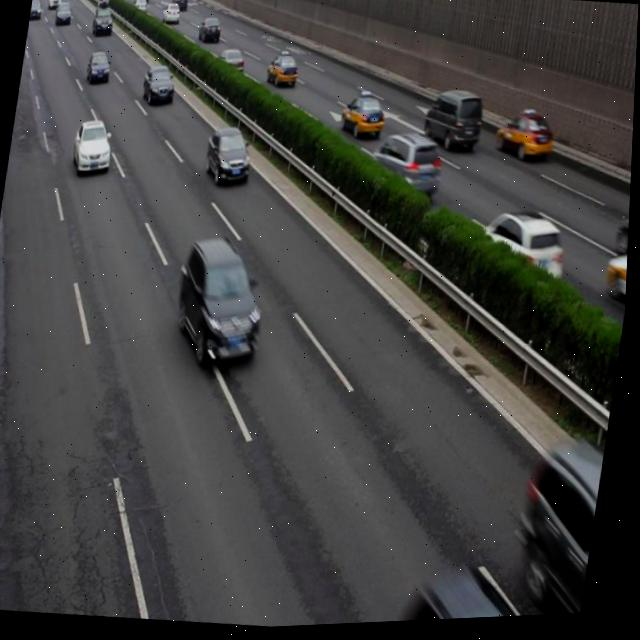car: (519, 444, 610, 621), (173, 232, 275, 375), (471, 211, 571, 298), (366, 132, 445, 205), (492, 111, 557, 170), (203, 123, 255, 192), (72, 117, 117, 179), (338, 93, 388, 145), (141, 62, 179, 112), (264, 53, 300, 91), (211, 49, 246, 84)
truck: (419, 87, 486, 158)
